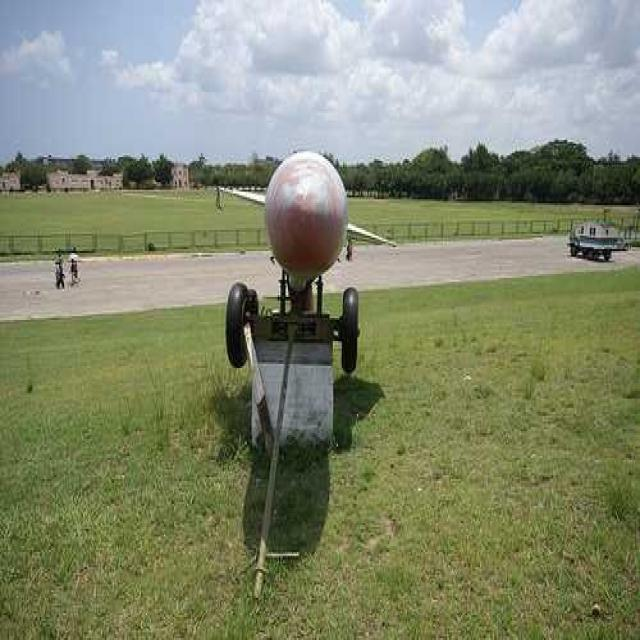missile: (218, 147, 394, 262)
